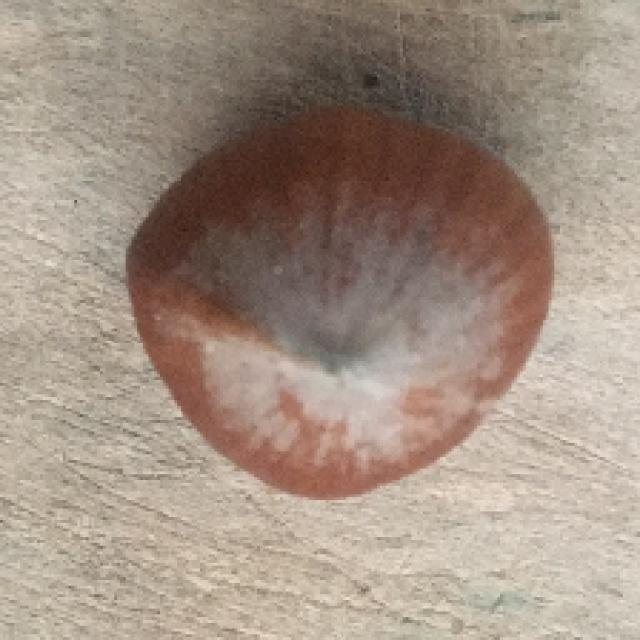qualityHazelnut: (110, 92, 561, 512)
